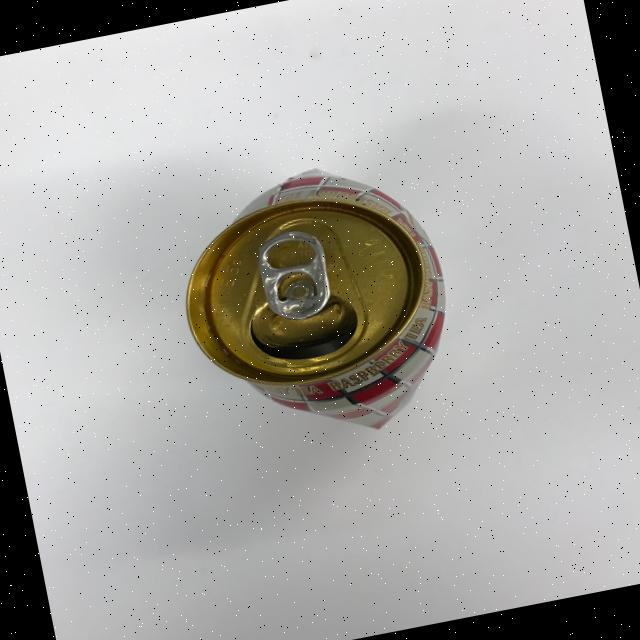metal: (163, 148, 471, 462)
